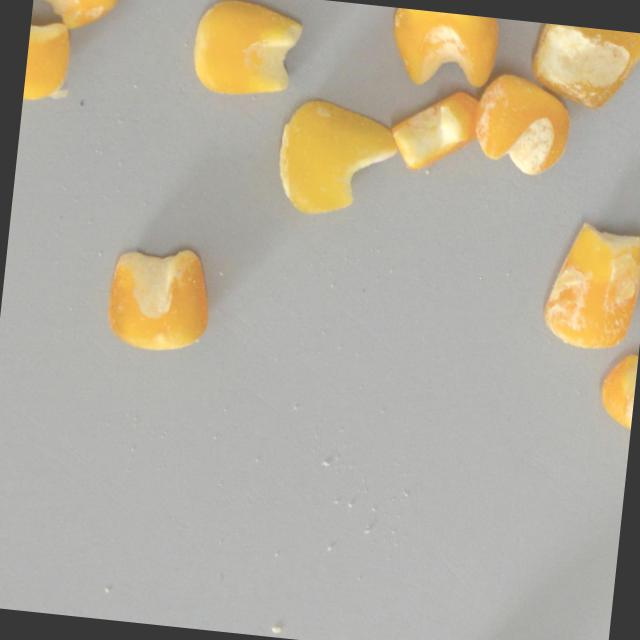no_canjicado: (185, 0, 308, 106), (382, 6, 503, 95)
no_desgerminado: (97, 231, 220, 359), (383, 80, 487, 181), (594, 348, 638, 438)
pelicula: (265, 86, 406, 228), (538, 212, 640, 355), (469, 70, 575, 178), (526, 21, 640, 112), (21, 0, 79, 105), (29, 0, 121, 35)
